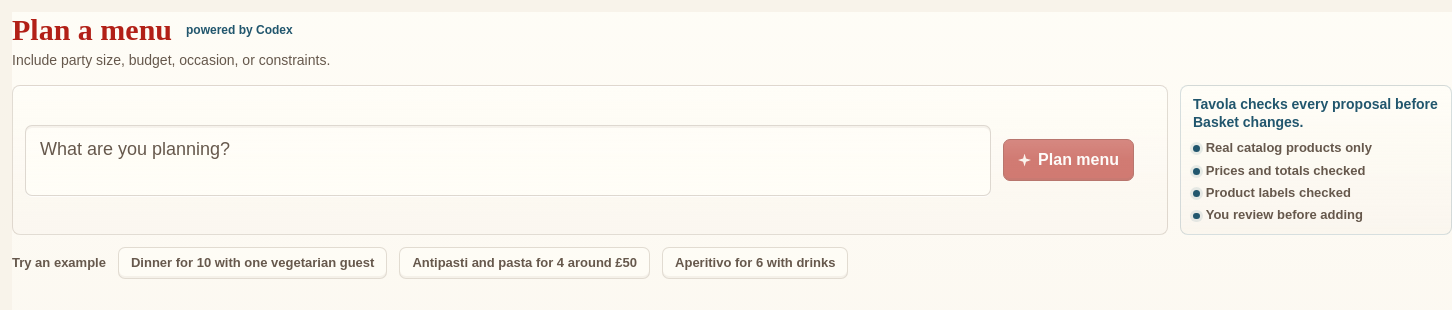
PlannerWorkspace › renders planner errors with product language
This screenshot has width=1452, height=310.
Type "Dairy-free feast for 10" into the text box named "Meal request".
click(508, 160); type("Dairy-free feast for 10")  # box [25,125,991,196]
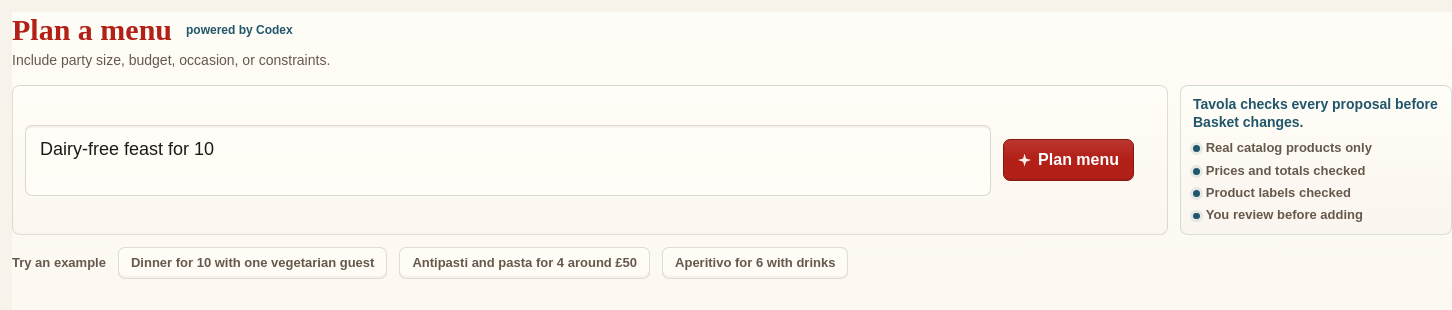
Click the button "Plan menu".
click(1068, 160)  # box [1003,139,1134,181]
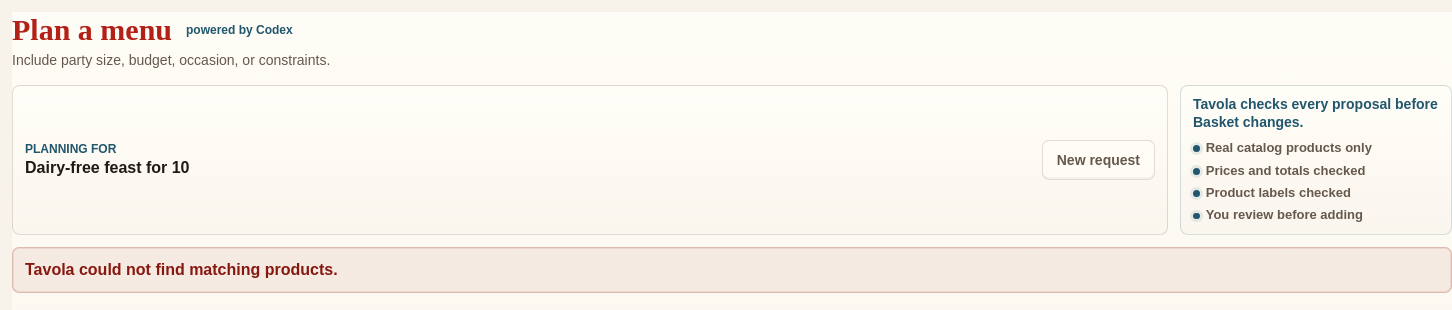
Expected: the message does not show "sku", [12,247,1451,293]
Expected: the message reads "Tavola could not find matching products.", [25,261,338,278]
